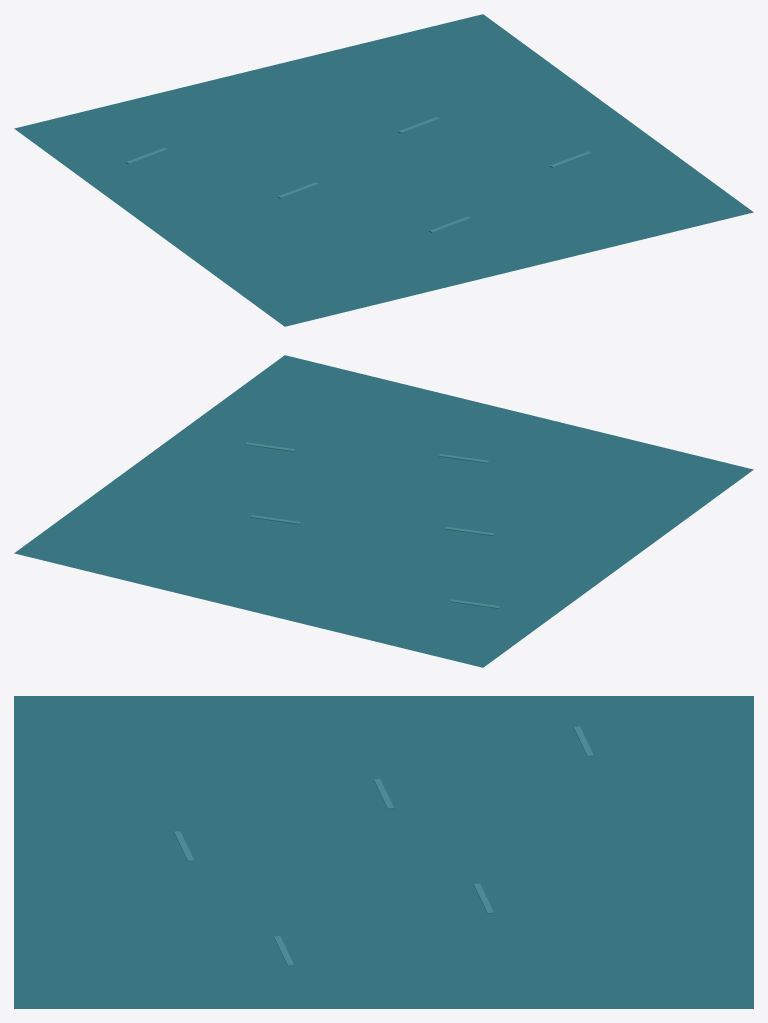
The model's file is water_tile_4m.glb.
3 renders of one model, top to bottom at view 1: azimuth 30°, elevation 25°; view 2: azimuth 150°, elevation 25°; view 3: azimuth 270°, elevation 25°, orthographic. The views are drawn at different scales.
Visible parts, largest first — view 1: water_surface; view 2: water_surface; view 3: water_surface.
Boxes of the visible parts, x1,y1,x2,y2 form: water_surface: (14, 14, 753, 326); water_surface: (14, 355, 753, 667); water_surface: (14, 696, 753, 1008).
Bounding box in the file's own units: 4 × 0.011 × 4.
